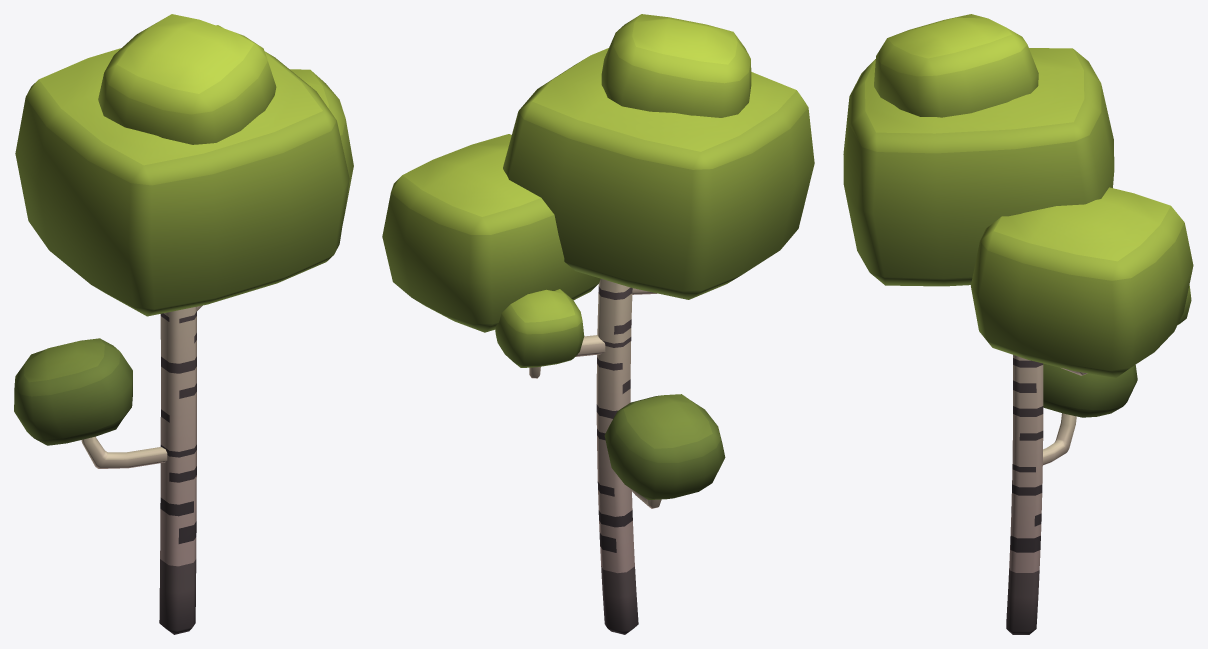
The model's file is birch_tree_col1_03.fbx.
The picture shows the model from 3 angles, left to right: view 1: azimuth 30°, elevation 25°; view 2: azimuth 150°, elevation 25°; view 3: azimuth 270°, elevation 25°; orthographic projection. The views are drawn at different scales.
Visible parts, largest first — view 1: birch_tree_col1_03; view 2: birch_tree_col1_03; view 3: birch_tree_col1_03.
Boxes of the visible parts, bbox=[...] form: birch_tree_col1_03: bbox=[14, 14, 353, 634]; birch_tree_col1_03: bbox=[382, 14, 814, 634]; birch_tree_col1_03: bbox=[843, 14, 1193, 634].
Bounding box in the file's own units: 540 × 937 × 500.
Materials: 1 (1 with a texture image).
